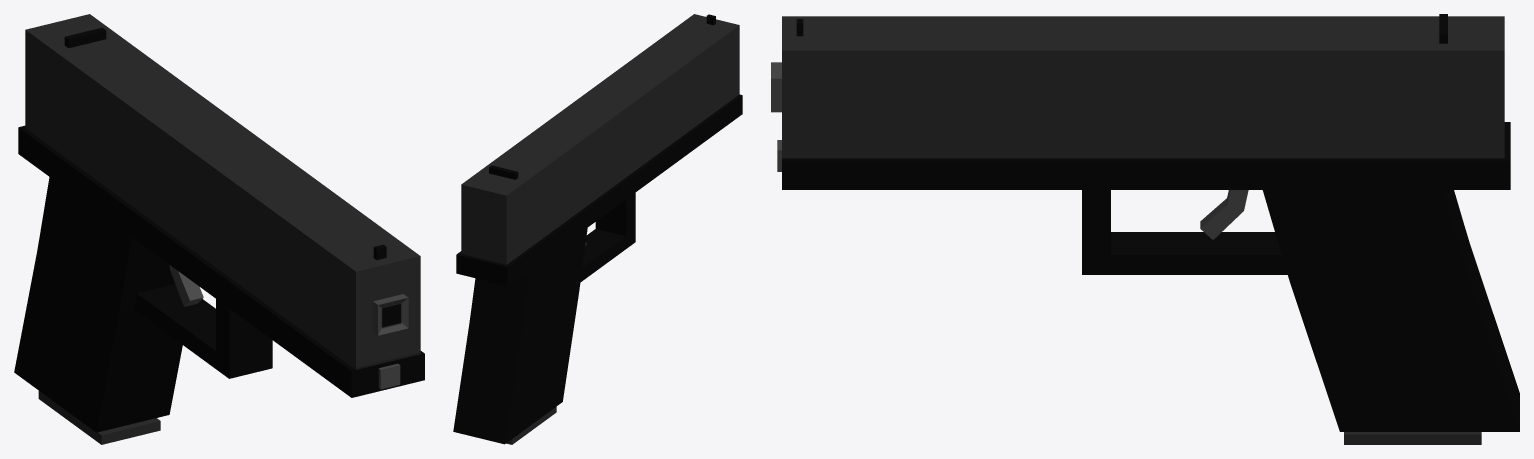
The model's file is pistol.fbx.
3 renders of one model, left to right at view 1: azimuth 30°, elevation 25°; view 2: azimuth 150°, elevation 25°; view 3: azimuth 270°, elevation 25°, orthographic. The views are drawn at different scales.
Parts seen in each view (by area): view 1: pistol; view 2: pistol; view 3: pistol.
Boxes of the visible parts, x1=… form: pistol: x1=14, y1=14, x2=424, y2=444; pistol: x1=453, y1=14, x2=742, y2=444; pistol: x1=771, y1=14, x2=1519, y2=444.
Bounding box in the file's own units: 0.0471 × 0.2294 × 0.3819.
